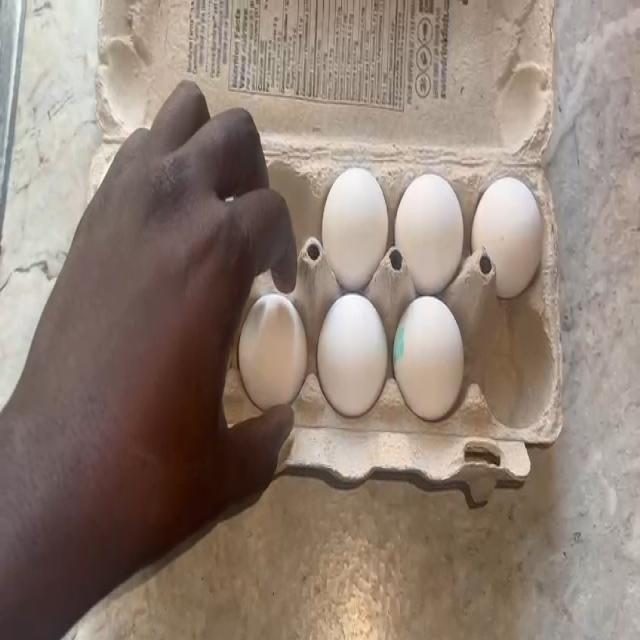Egg: (476, 171, 542, 292), (322, 291, 382, 411), (244, 304, 304, 402), (400, 300, 454, 408), (400, 168, 456, 264), (327, 170, 377, 256)
